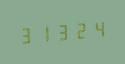four: (90, 17, 107, 40)
one: (36, 22, 53, 44)
three: (18, 23, 35, 46), (54, 20, 71, 43)
two: (72, 19, 89, 41)
